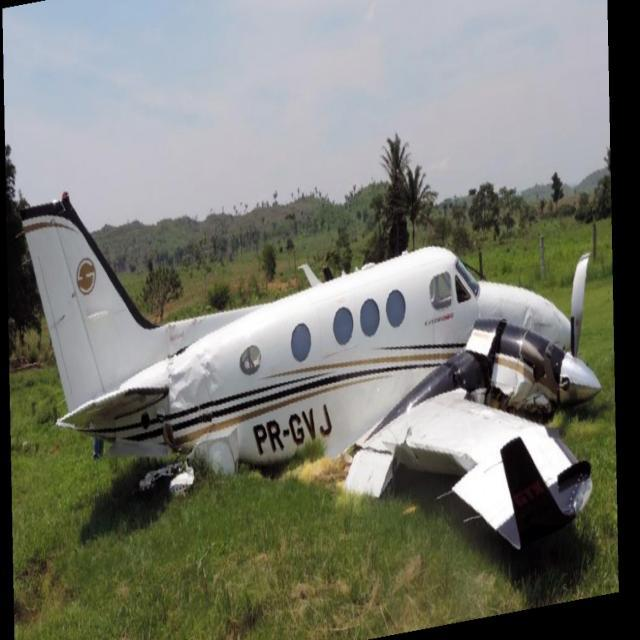dent: (167, 349, 220, 419)
